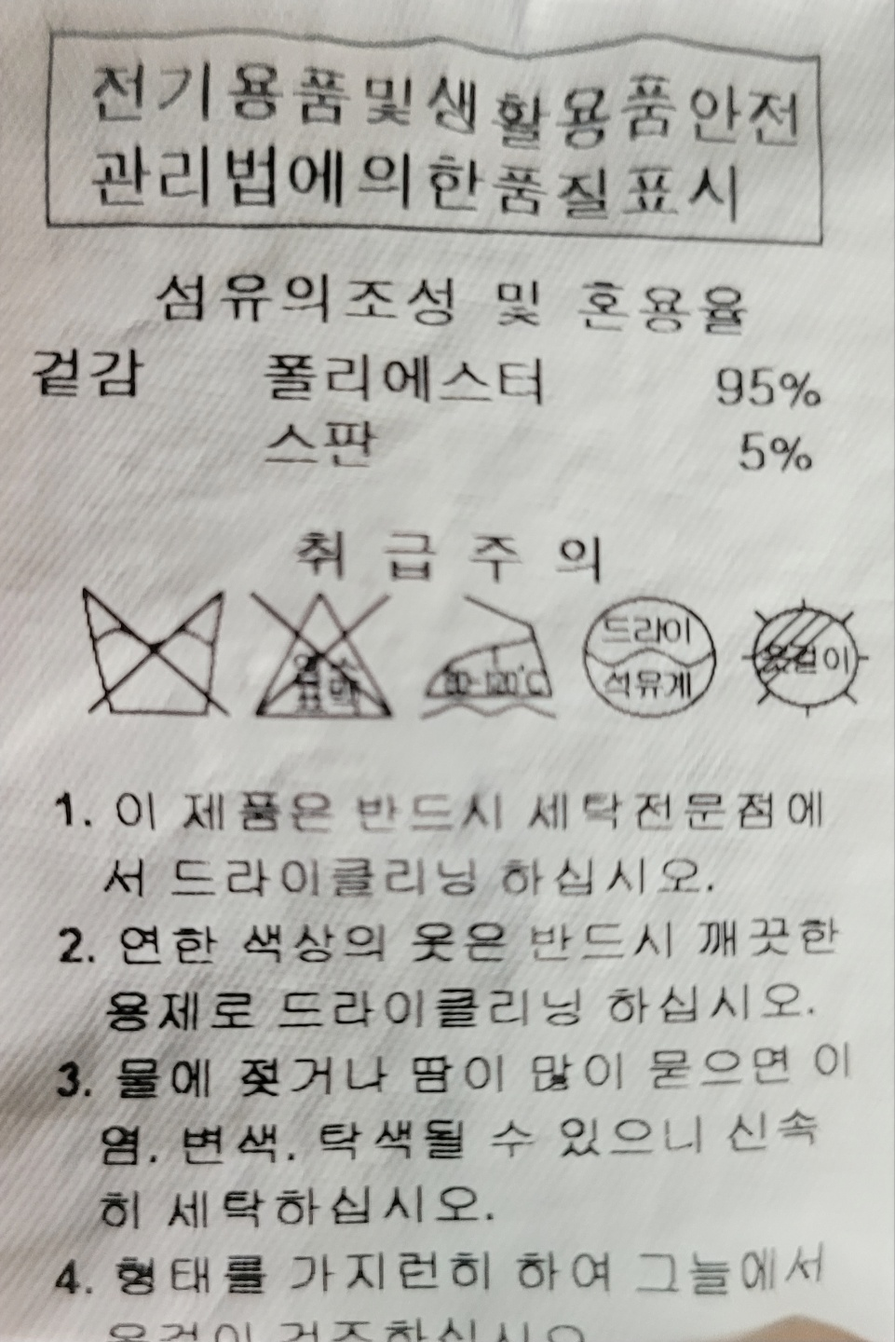KR_dry_clean_petroleum: (570, 586, 728, 731)
KR_hang_dry_in_shade: (736, 591, 875, 727)
KR_iron_low_temp_with_cloth: (416, 586, 566, 729)
KR_no_chlorine_bleach: (245, 578, 408, 735)
KR_no_wash: (71, 567, 242, 725)
